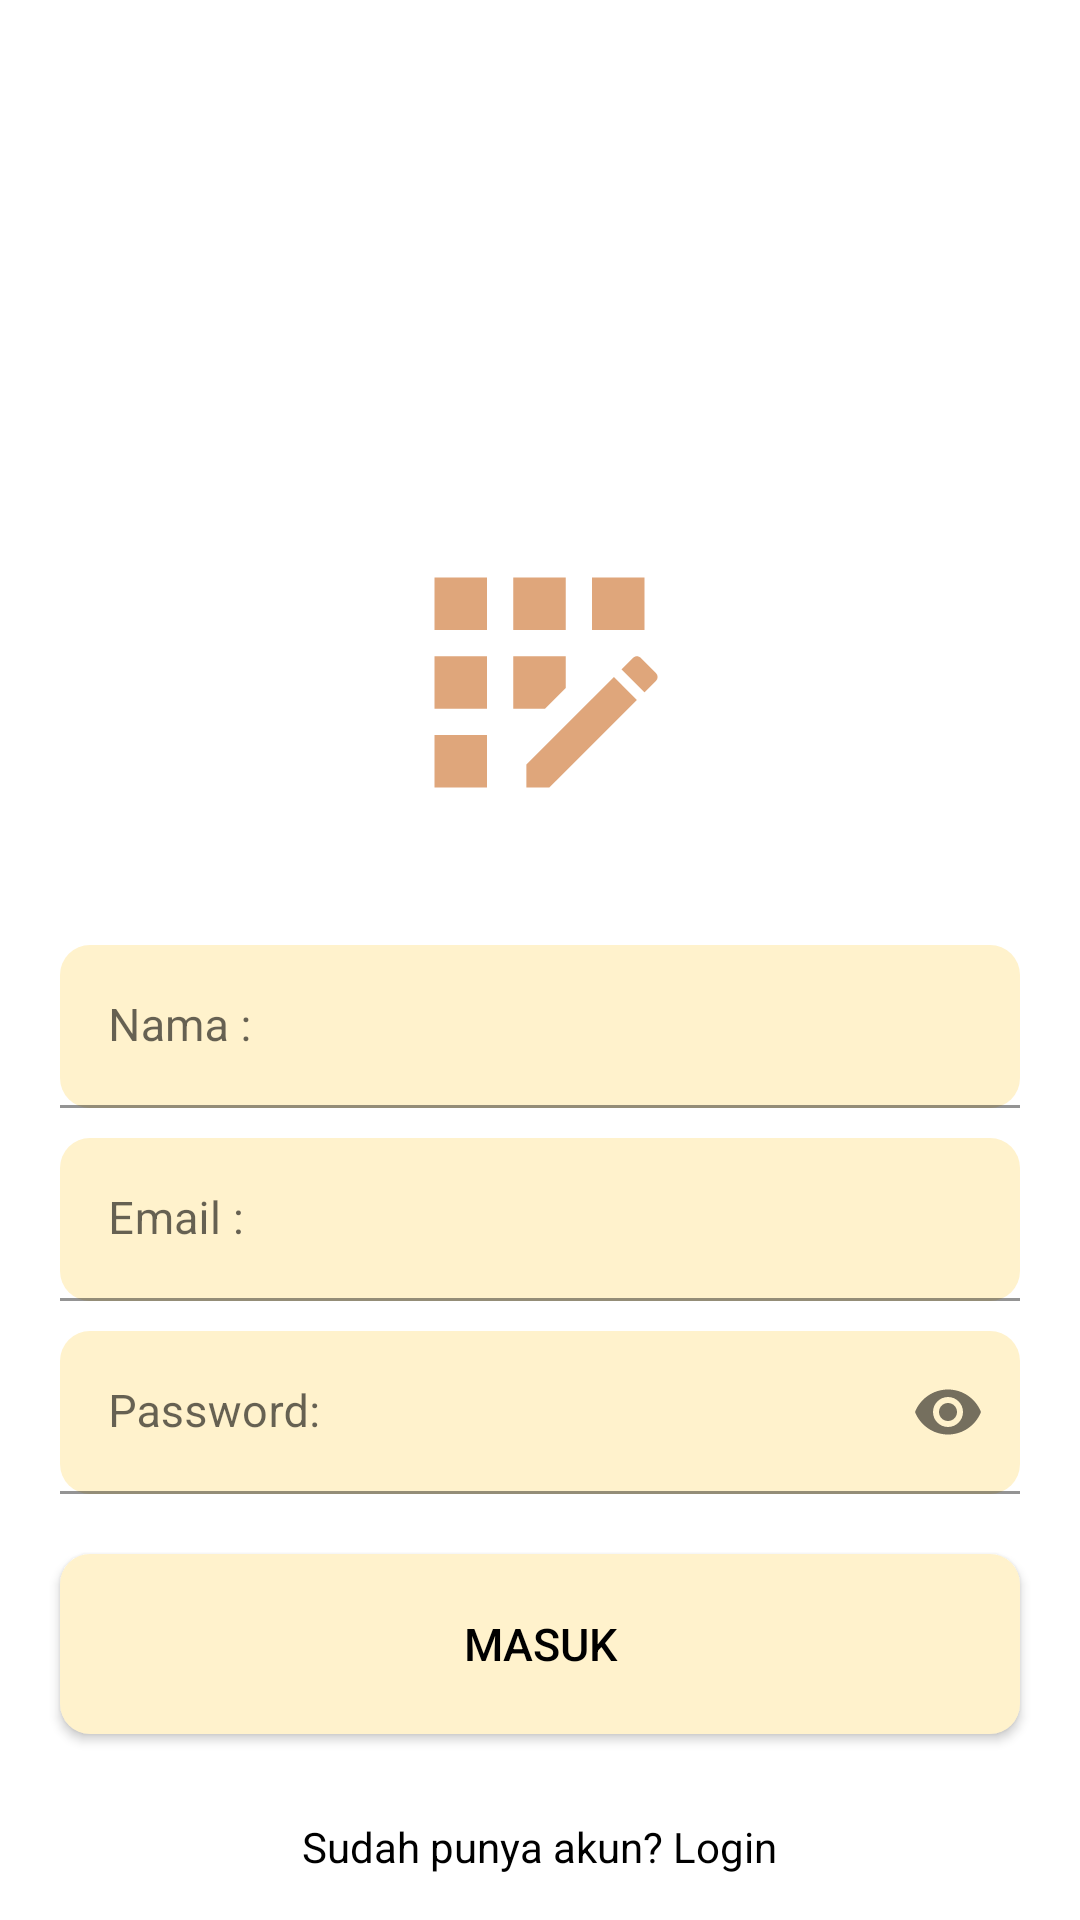

Named icons in this screenshot (1080px x 1920px) and their bounding boxes, (x1, y1, x2, y2):
registration: (434, 577, 658, 788)
